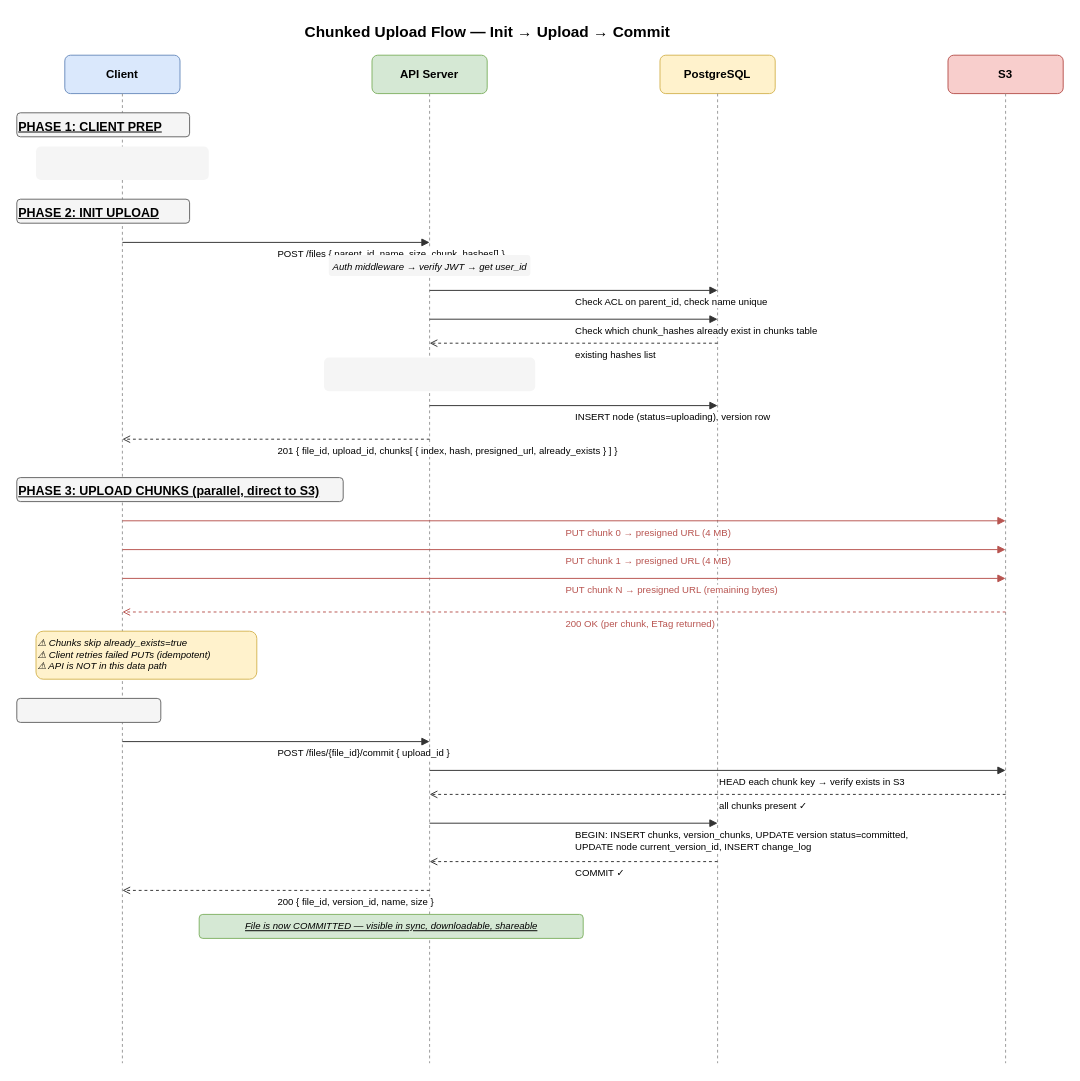
Some shapes in this 1080 by 1081 pixel diagram are drawn without their labels. The centre of each missing label's shape, as x and y in pixels:
Generate presigned PUT URLs for missing chunks only (dedup skip): (429,374)
PHASE 4: COMMIT: (88,709)
Split file into 4 MB chunks Compute SHA-256 hash per chunk: (122,163)
